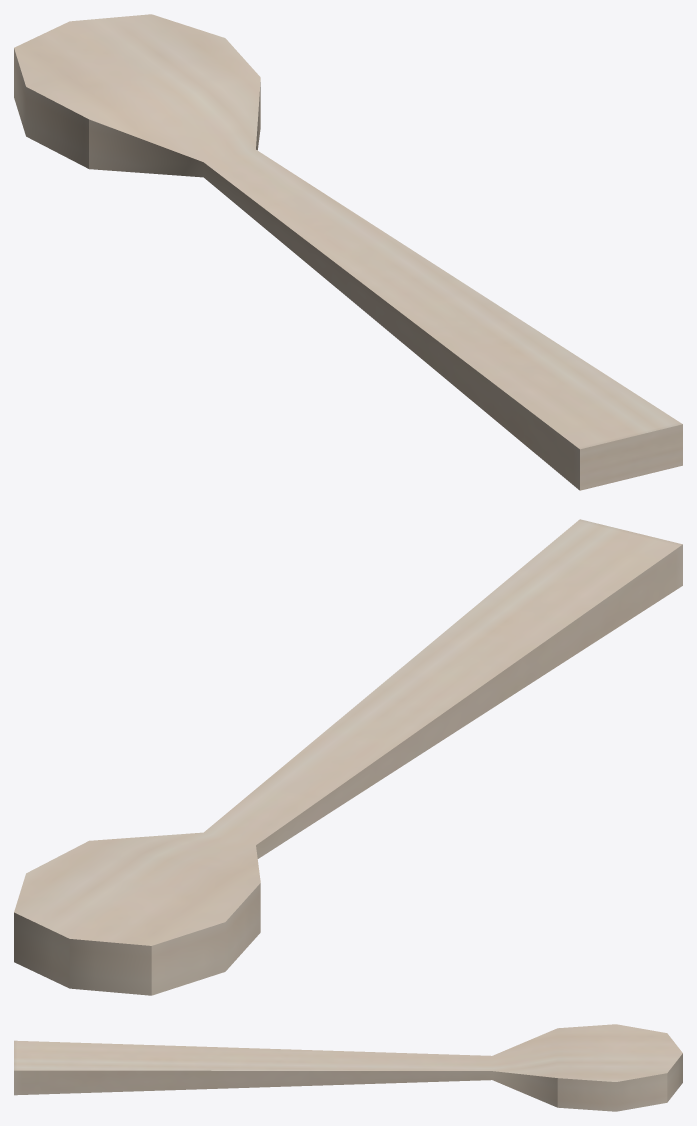
Rendered from Spoon_3.fbx.
3 views of the same model, one above another, from view 1: azimuth 30°, elevation 25°; view 2: azimuth 150°, elevation 25°; view 3: azimuth 270°, elevation 25° (orthographic). The views are drawn at different scales.
Parts seen in each view (by area): view 1: pCube560; view 2: pCube560; view 3: pCube560.
Boxes of the visible parts, box(x1,y1,x2,y2) form: pCube560: box(14, 14, 682, 490); pCube560: box(14, 519, 682, 995); pCube560: box(14, 1024, 682, 1111).
Bounding box in the file's own units: 0.0504 × 0.012 × 0.2461.
